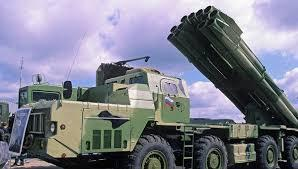MIL_SAM_TEL: (1, 6, 298, 169)
